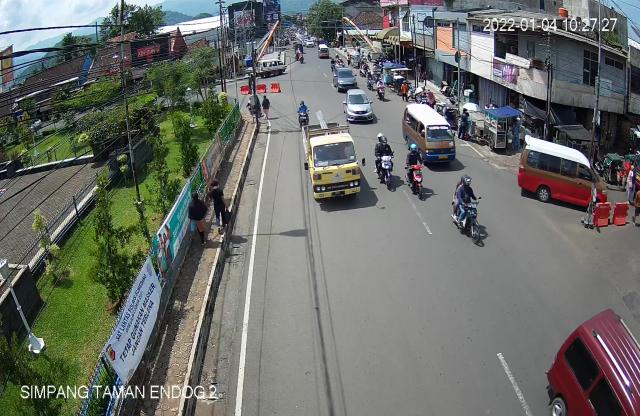Mobil: (542, 309, 640, 416), (519, 136, 609, 218), (400, 102, 463, 167), (342, 90, 382, 127)
Motor: (452, 175, 486, 249), (368, 135, 403, 191), (404, 144, 429, 203), (292, 98, 311, 127)
Truk: (299, 114, 365, 210)
